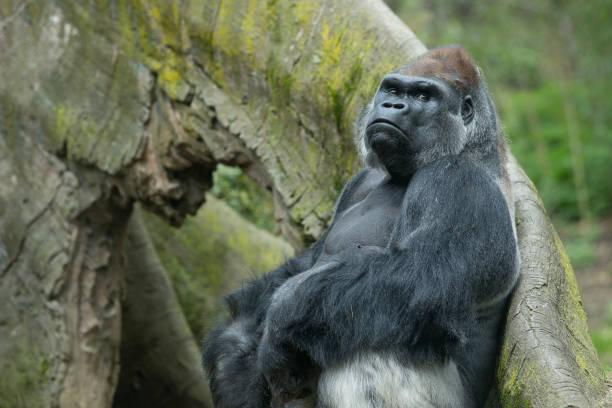gorille_Autres: (203, 39, 541, 408)
